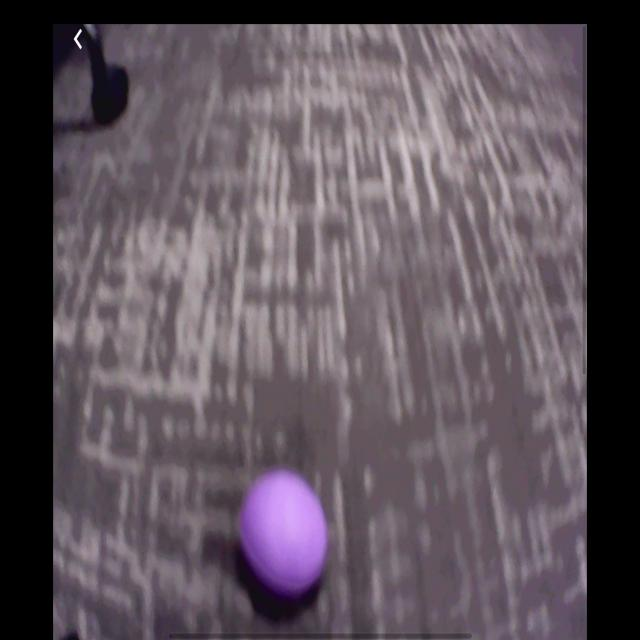ball: (244, 472, 329, 600)
